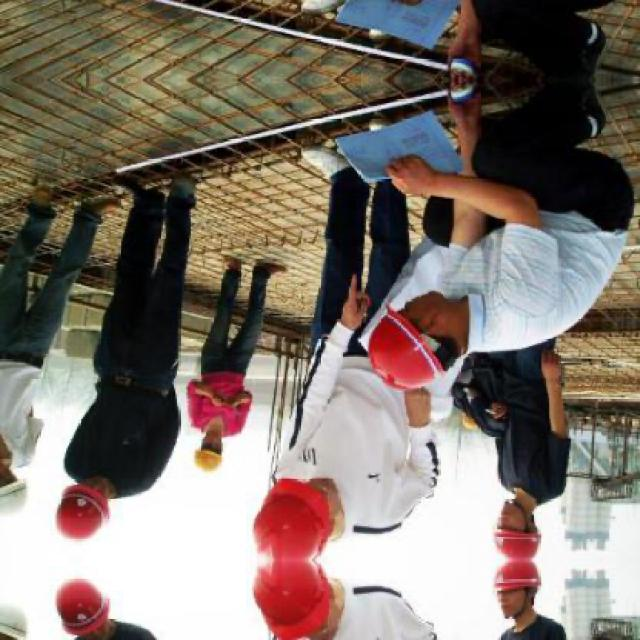con casco: (330, 273, 512, 417), (174, 446, 360, 568), (0, 451, 168, 582), (137, 397, 292, 512), (451, 492, 597, 566)
